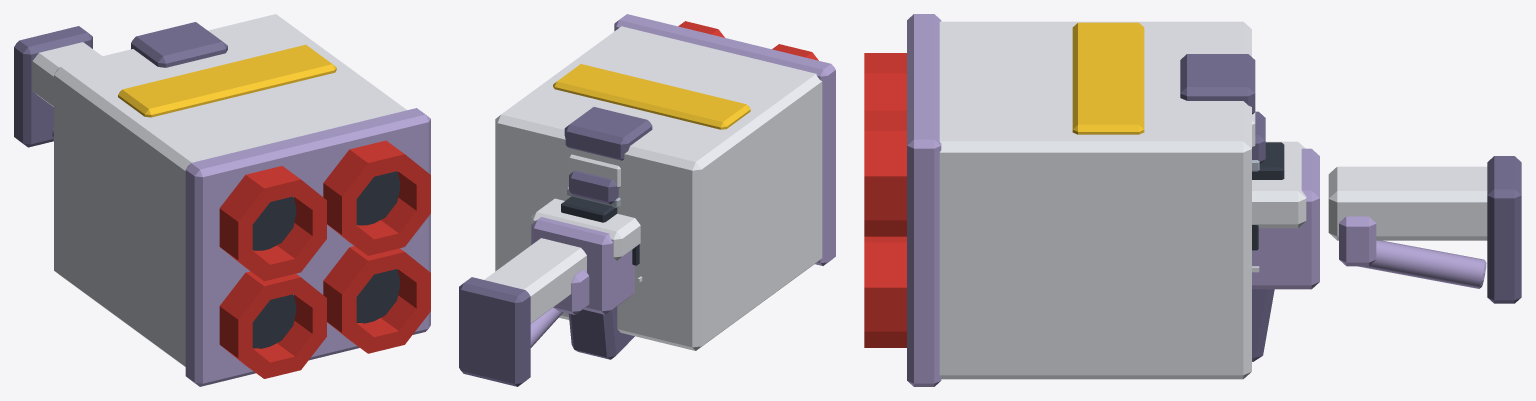
Rendered from Future_Launcher_v001.fbx.
3 renders of one model, left to right at view 1: azimuth 30°, elevation 25°; view 2: azimuth 150°, elevation 25°; view 3: azimuth 270°, elevation 25°, orthographic. The views are drawn at different scales.
Visible parts, largest first — view 1: Future_Launcher__RECEIVER_MESH; view 2: Future_Launcher__RECEIVER_MESH; view 3: Future_Launcher__RECEIVER_MESH.
Boxes of the visible parts, box(x1,y1,x2,y2) form: Future_Launcher__RECEIVER_MESH: box(14, 14, 430, 386); Future_Launcher__RECEIVER_MESH: box(459, 14, 835, 386); Future_Launcher__RECEIVER_MESH: box(864, 14, 1521, 386).
Size of the model in its own units: 0.91 by 0.9094 by 1.93.
